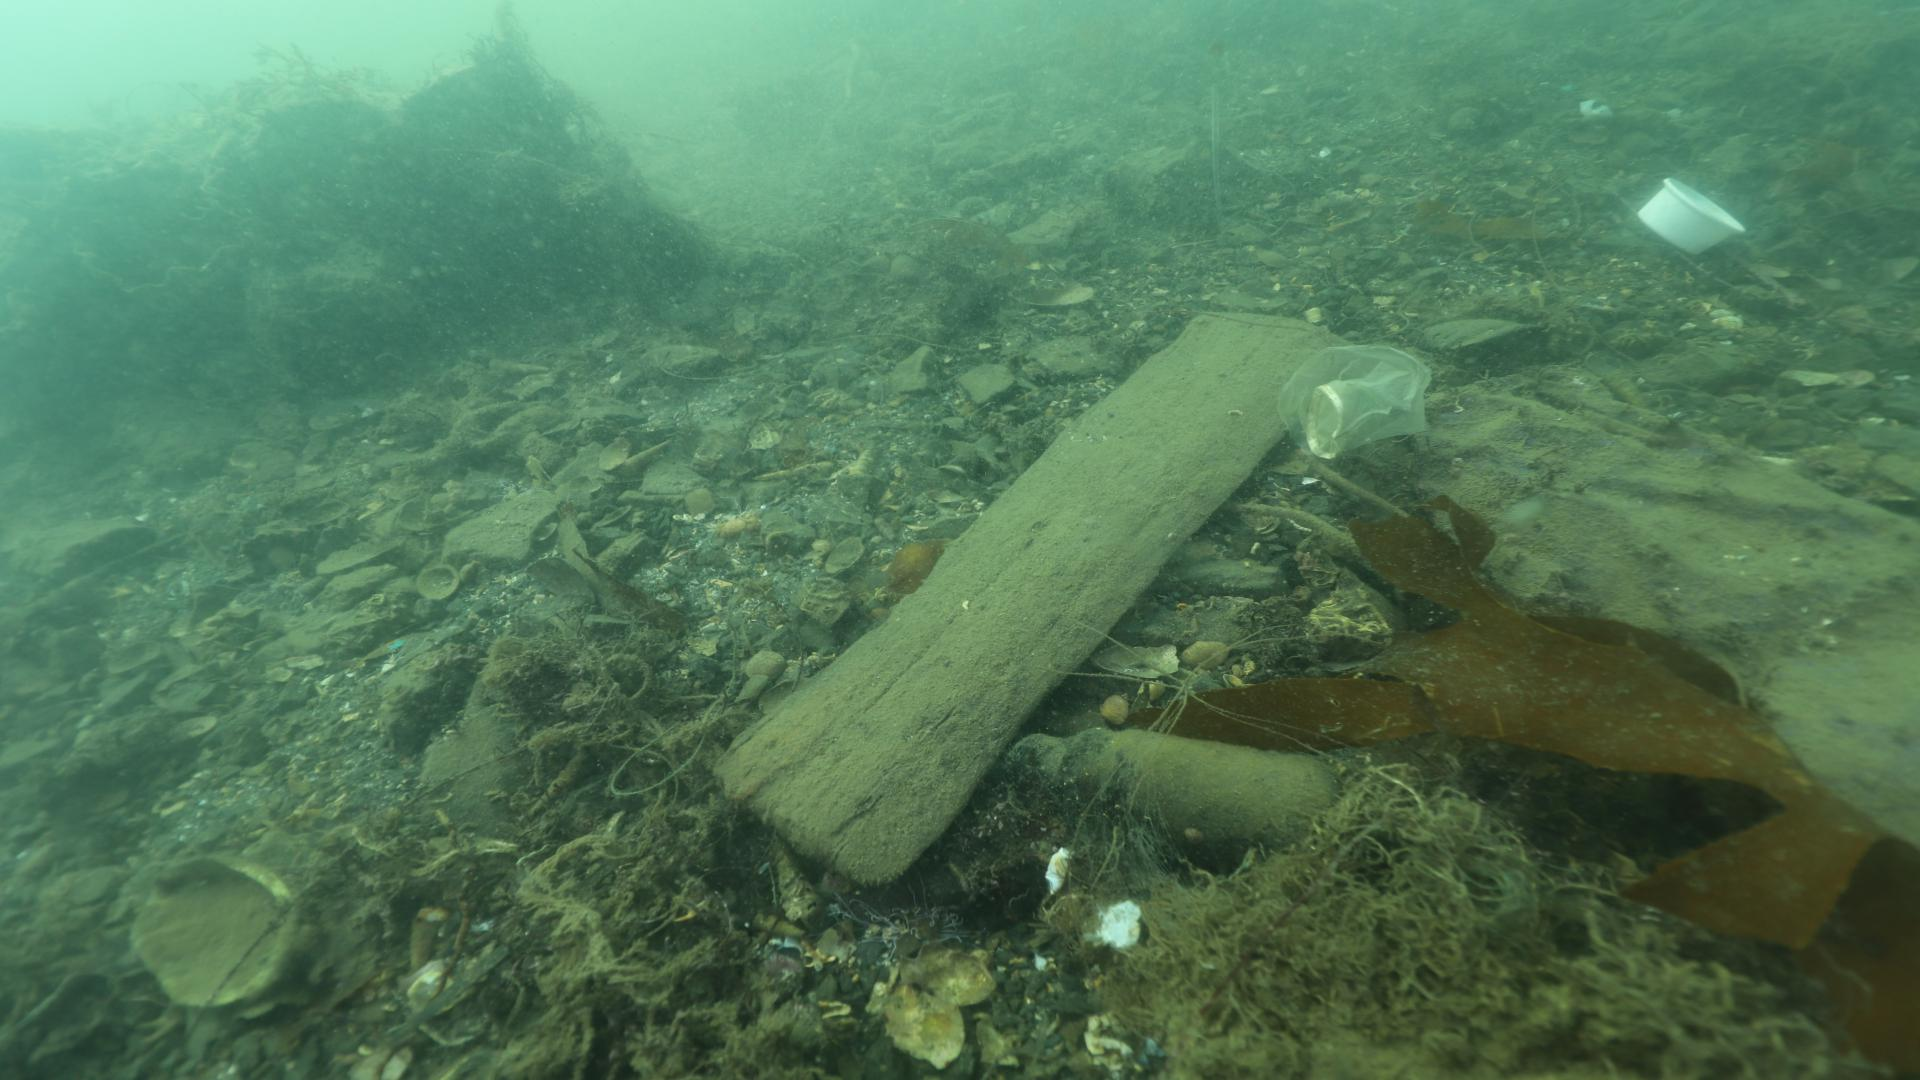wood: (705, 310, 1356, 886)
